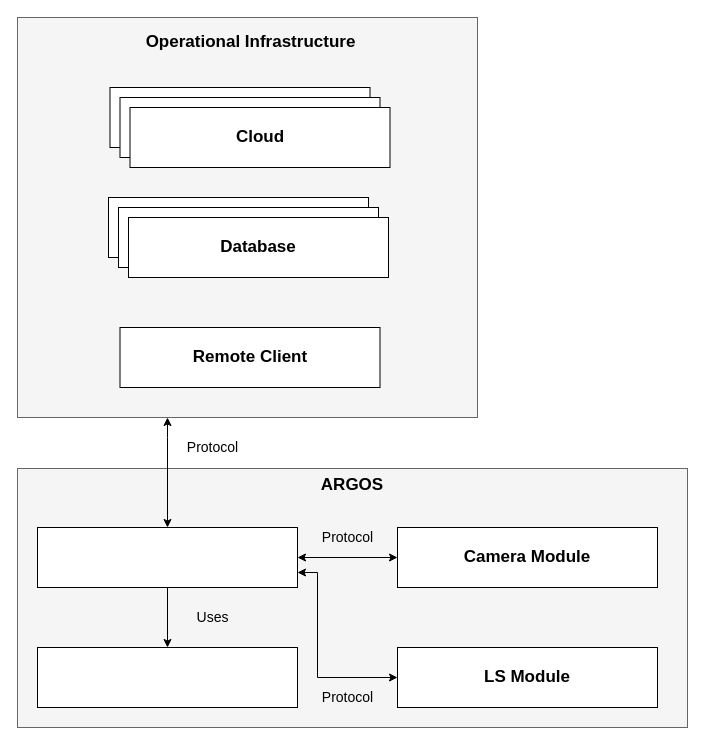
The diagram is 705 pixels wide and 745 high, and some of its shapes have lost their labels. The box of each missing label's shape, as (x1, y1, x2, y2) in pixels:
Raspberry Pi Board: (36, 526, 298, 588)
RL Model: (36, 646, 298, 708)
